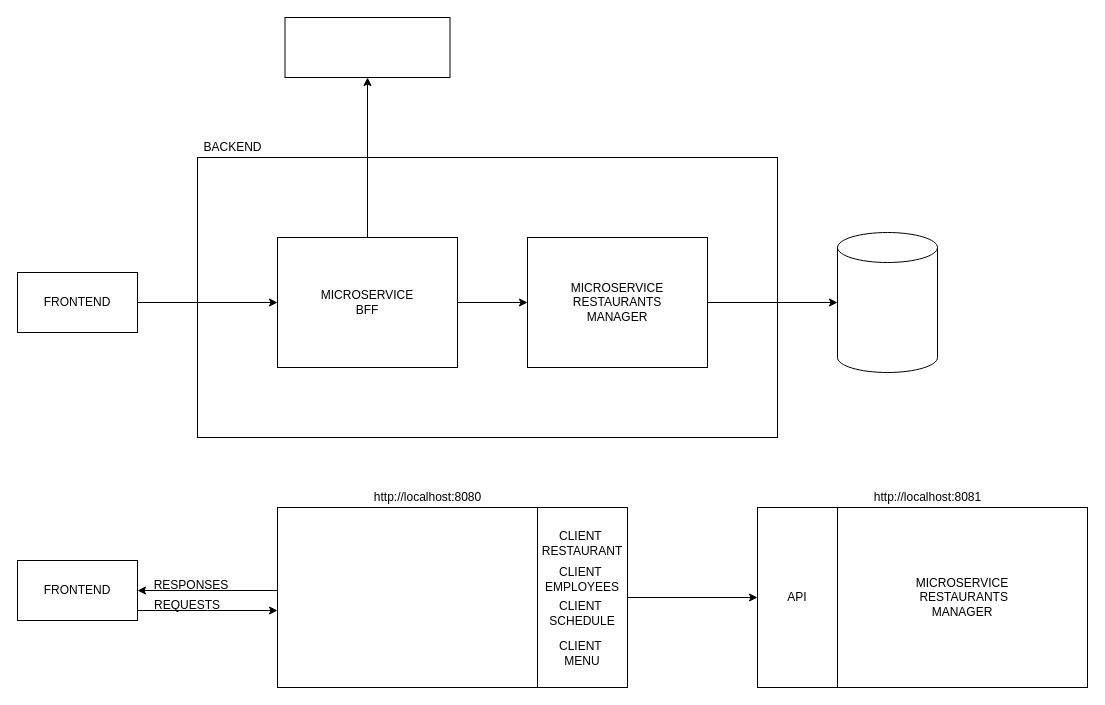
Some shapes in this 1105 by 705 pixel diagram are drawn without their labels. Here are the shapes that lost their labels. From the top down, the centre of each, then its label:
[367,47]: HERE API
[887,302]: DB
[407,597]: MICROSERVICE BACKEND FOR FRONTEND
